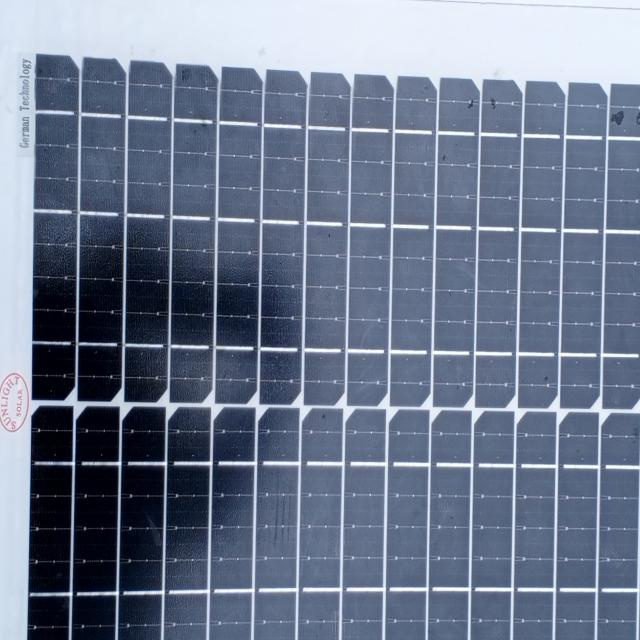Clean: (10, 10, 639, 640)
